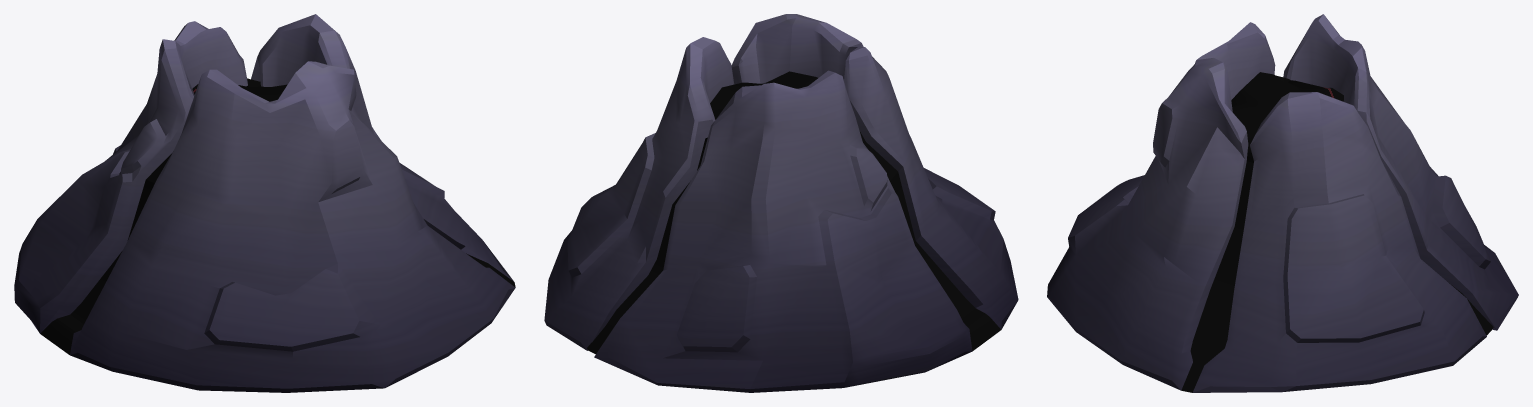
The model's file is Volkan.fbx.
3 views of the same model, side by side, from view 1: azimuth 30°, elevation 25°; view 2: azimuth 150°, elevation 25°; view 3: azimuth 270°, elevation 25° (orthographic). The views are drawn at different scales.
Parts seen in each view (by area): view 1: Mountain, Lava; view 2: Mountain, Lava; view 3: Mountain, Lava.
Boxes of the visible parts, box(x1,y1,x2,y2) form: Mountain: box(14, 14, 515, 392); Lava: box(40, 78, 515, 354); Mountain: box(544, 14, 1018, 392); Lava: box(587, 71, 1000, 354); Mountain: box(1047, 14, 1518, 392); Lava: box(1181, 72, 1493, 392).
Size of the model in its own units: 488 by 289 by 497.
